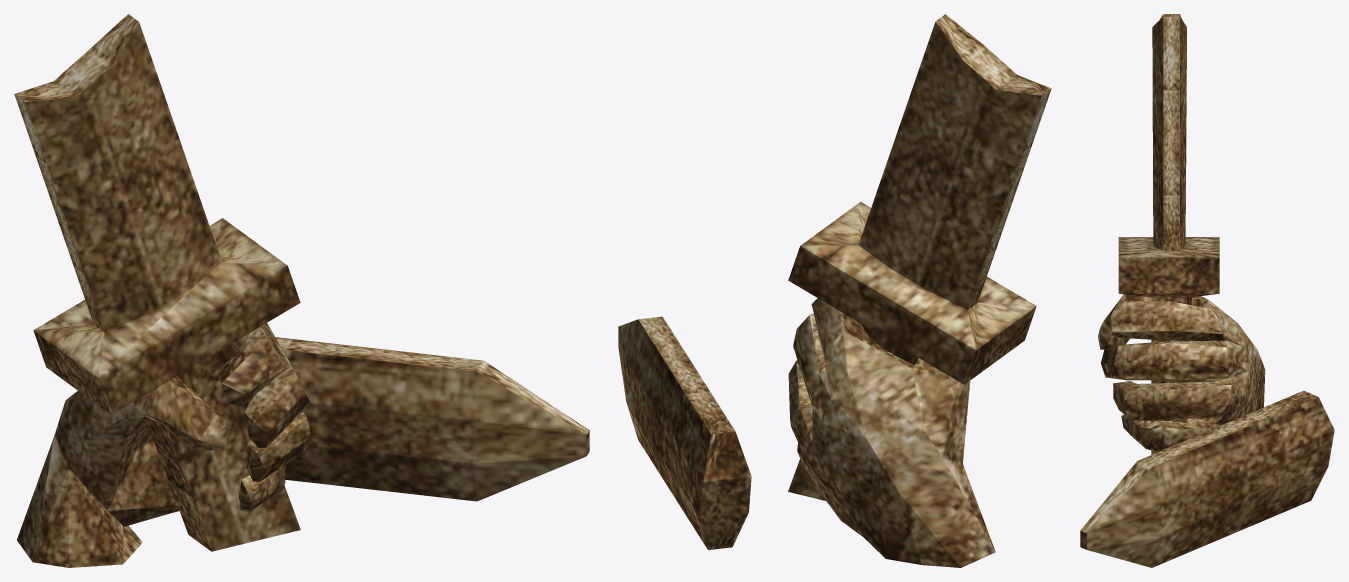
Rendered from ob-bigstatue02.glb.
The picture shows the model from 3 angles, left to right: view 1: azimuth 30°, elevation 25°; view 2: azimuth 150°, elevation 25°; view 3: azimuth 270°, elevation 25°; orthographic projection. The views are drawn at different scales.
Visible parts, largest first — view 1: Object01; view 2: Object01; view 3: Object01.
Boxes of the visible parts, bbox=[...] form: Object01: bbox=[14, 14, 589, 567]; Object01: bbox=[618, 14, 1051, 567]; Object01: bbox=[1080, 14, 1334, 567].
Size of the model in its own units: 5.81 by 5.88 by 3.2.
1 material, 1 textured.
